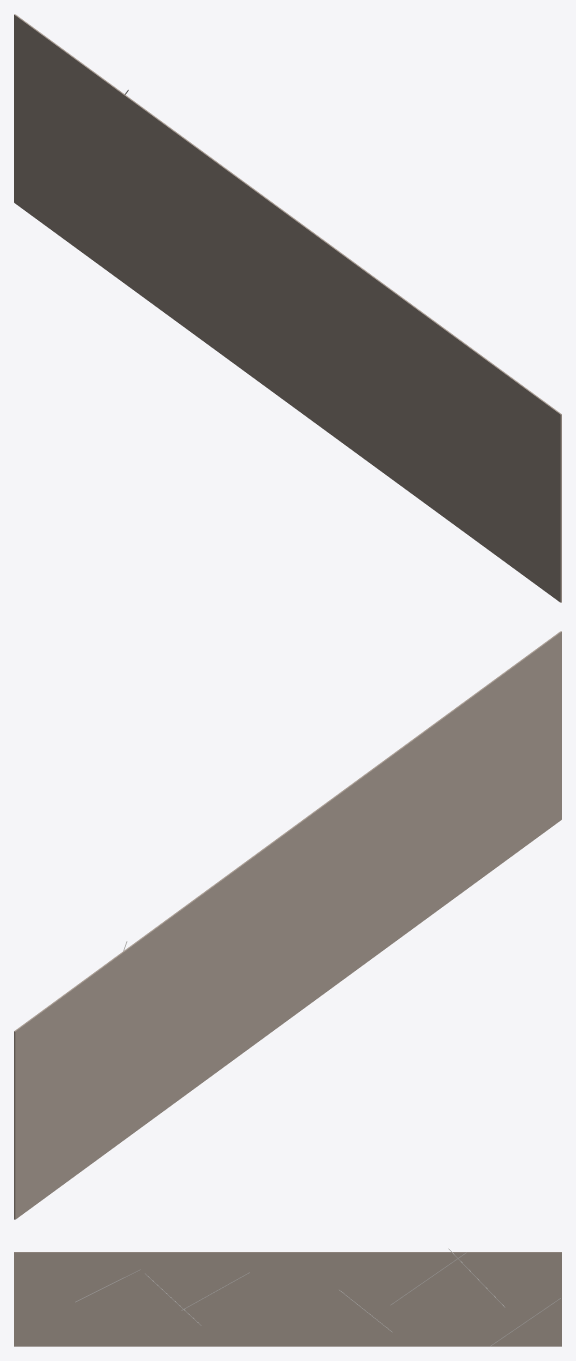
The model's file is R5_FeatureWall_East.obj.
The picture shows the model from 3 angles, top to bottom: view 1: azimuth 30°, elevation 25°; view 2: azimuth 150°, elevation 25°; view 3: azimuth 270°, elevation 25°; orthographic projection. The views are drawn at different scales.
Visible parts, largest first — view 1: Panel; view 2: Panel; view 3: Panel, Inlays.
Part boxes in pixels (x1,y1,x2,y2): Panel: [14, 14, 561, 602]; Panel: [14, 631, 561, 1219]; Panel: [14, 1252, 561, 1346]; Inlays: [75, 1248, 560, 1346].
Bounding box in the file's own units: 0.025 × 2.74 × 13.9.
